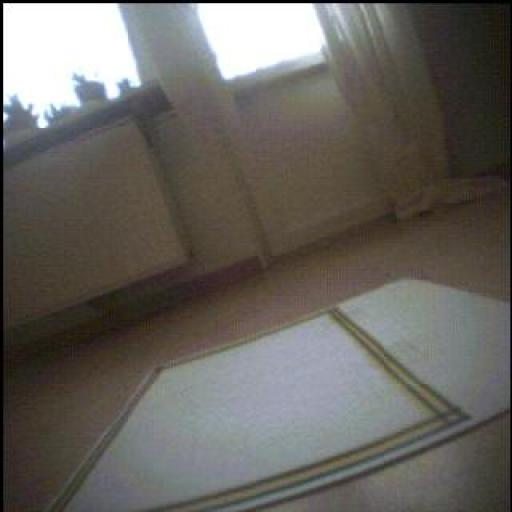Pad: (53, 281, 512, 512)
